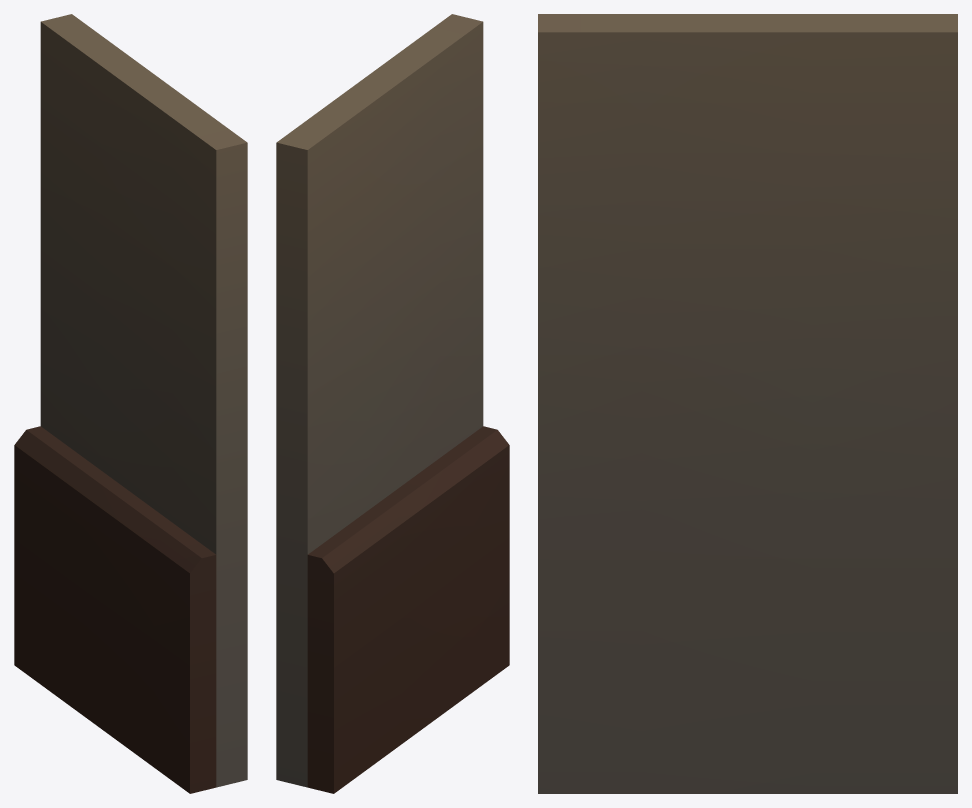
The model's file is SM_Brown_WallS_full.fbx.
The picture shows the model from 3 angles, left to right: view 1: azimuth 30°, elevation 25°; view 2: azimuth 150°, elevation 25°; view 3: azimuth 270°, elevation 25°; orthographic projection. The views are drawn at different scales.
Visible parts, largest first — view 1: SM_Brown_WallS_full; view 2: SM_Brown_WallS_full; view 3: SM_Brown_WallS_full.
Boxes of the visible parts, bbox=[...] form: SM_Brown_WallS_full: bbox=[14, 14, 247, 793]; SM_Brown_WallS_full: bbox=[276, 14, 509, 793]; SM_Brown_WallS_full: bbox=[538, 14, 957, 793].
Size of the model in its own units: 0.3773 by 2 by 4.
